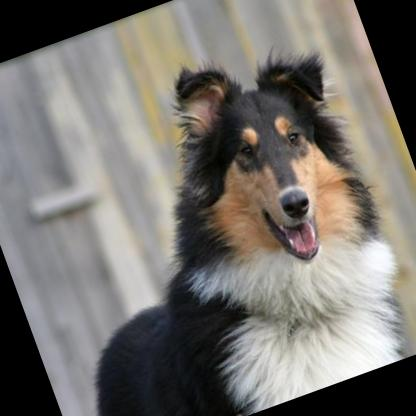collie: (0, 10, 416, 416)
